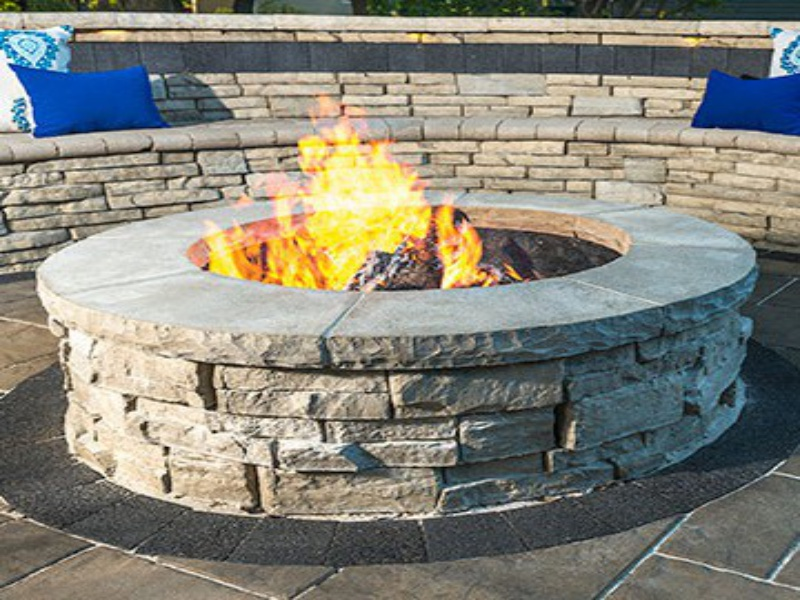fire: (300, 97, 429, 252), (210, 252, 356, 279), (437, 209, 484, 286)
